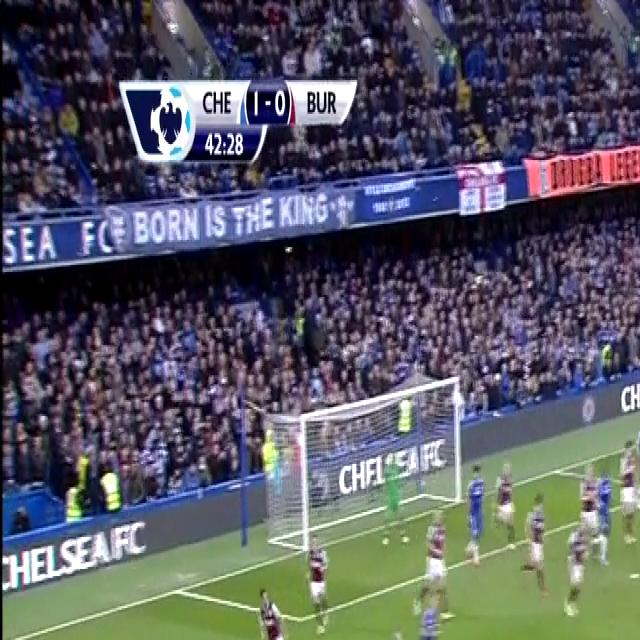goalkeeper: (378, 440, 412, 552)
referee: (376, 615, 410, 640)
soccer-player: (418, 502, 456, 623), (299, 519, 335, 640), (520, 487, 552, 608), (562, 511, 594, 622), (246, 572, 298, 640), (588, 458, 617, 569), (576, 449, 605, 558), (462, 459, 490, 571), (489, 446, 516, 561), (612, 429, 640, 535), (619, 421, 640, 528), (409, 578, 443, 640), (633, 618, 640, 640)
